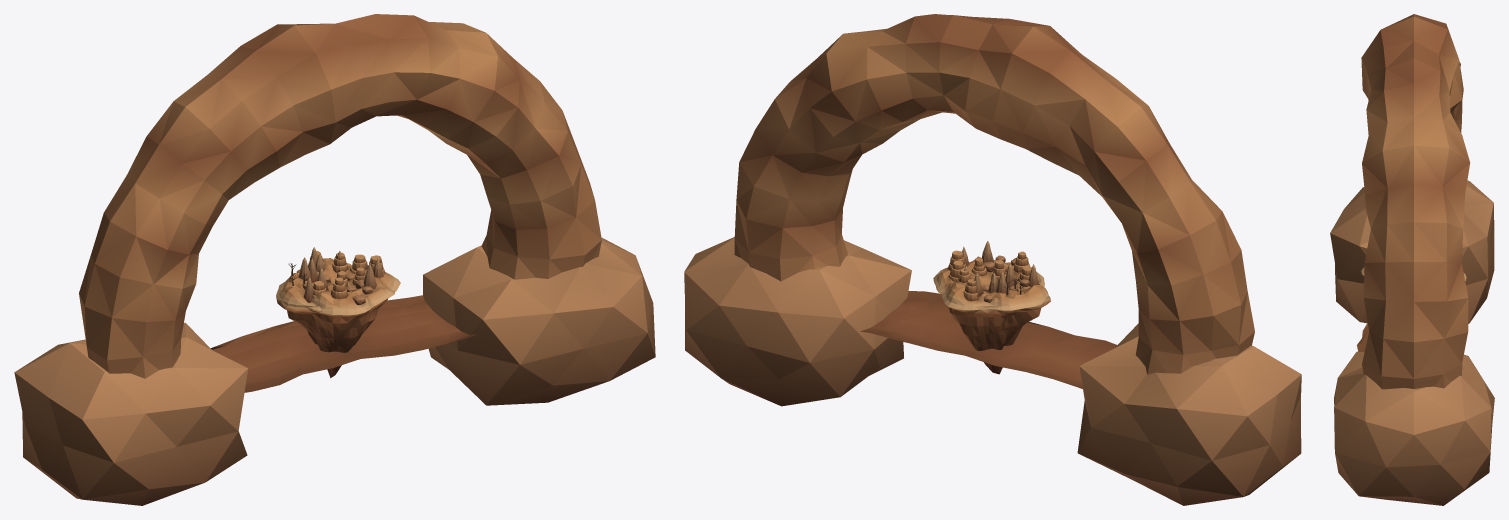
The model's file is isle-gorge-BTLxQmHc.glb.
The picture shows the model from 3 angles, left to right: view 1: azimuth 30°, elevation 25°; view 2: azimuth 150°, elevation 25°; view 3: azimuth 270°, elevation 25°; orthographic projection. The views are drawn at different scales.
Visible parts, largest first — view 1: far, isle_2, isle_1, isle_0; view 2: far, isle_2, isle_1, isle_0; view 3: far.
Boxes of the visible parts, x1,y1,x2,y2 form: far: (14, 14, 655, 505); isle_2: (288, 251, 383, 378); isle_1: (276, 247, 400, 335); isle_0: (290, 253, 394, 312); far: (684, 14, 1301, 505); isle_2: (941, 251, 1044, 374); isle_1: (933, 250, 1050, 340); isle_0: (948, 241, 1044, 302); far: (1330, 14, 1494, 505).
Bounding box in the file's own units: 559 × 376 × 153.
